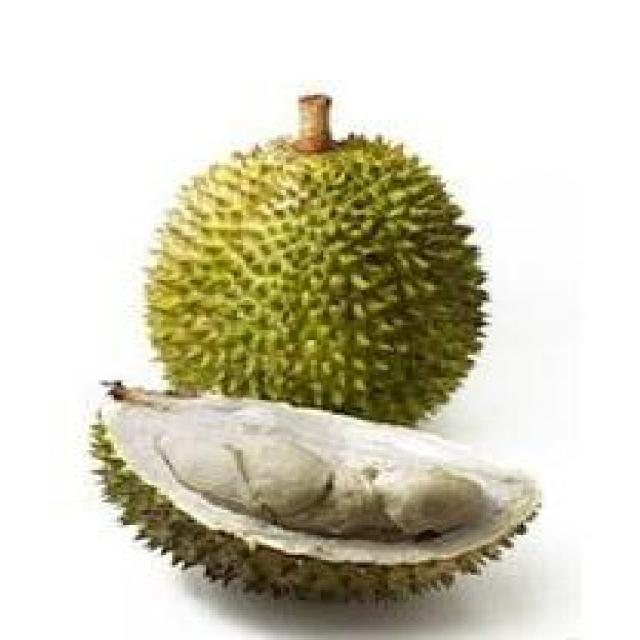fruit: (98, 98, 511, 452), (61, 277, 455, 640)
